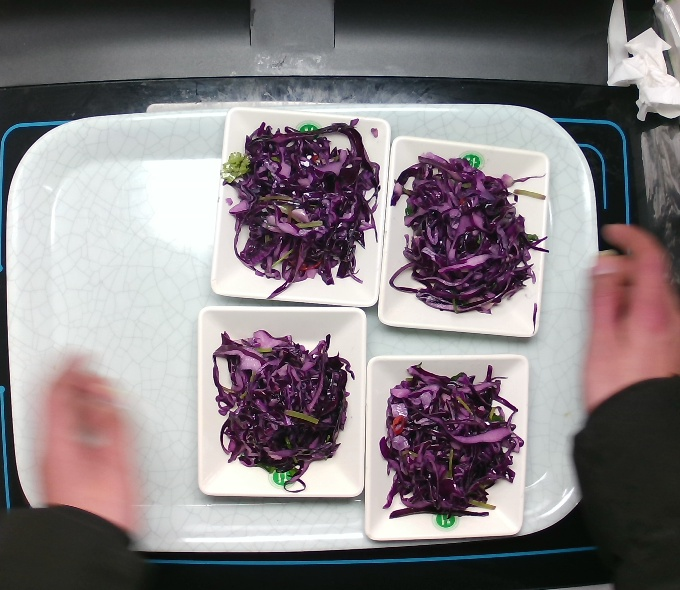wcq-ZiGanLan: (218, 119, 382, 301), (388, 148, 544, 318), (208, 323, 358, 494), (378, 357, 525, 524)
